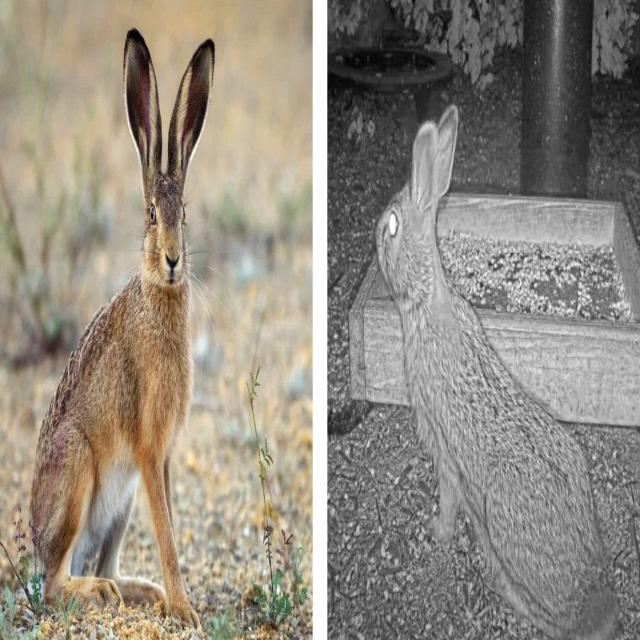Hare: (372, 97, 622, 640), (32, 29, 220, 604)
